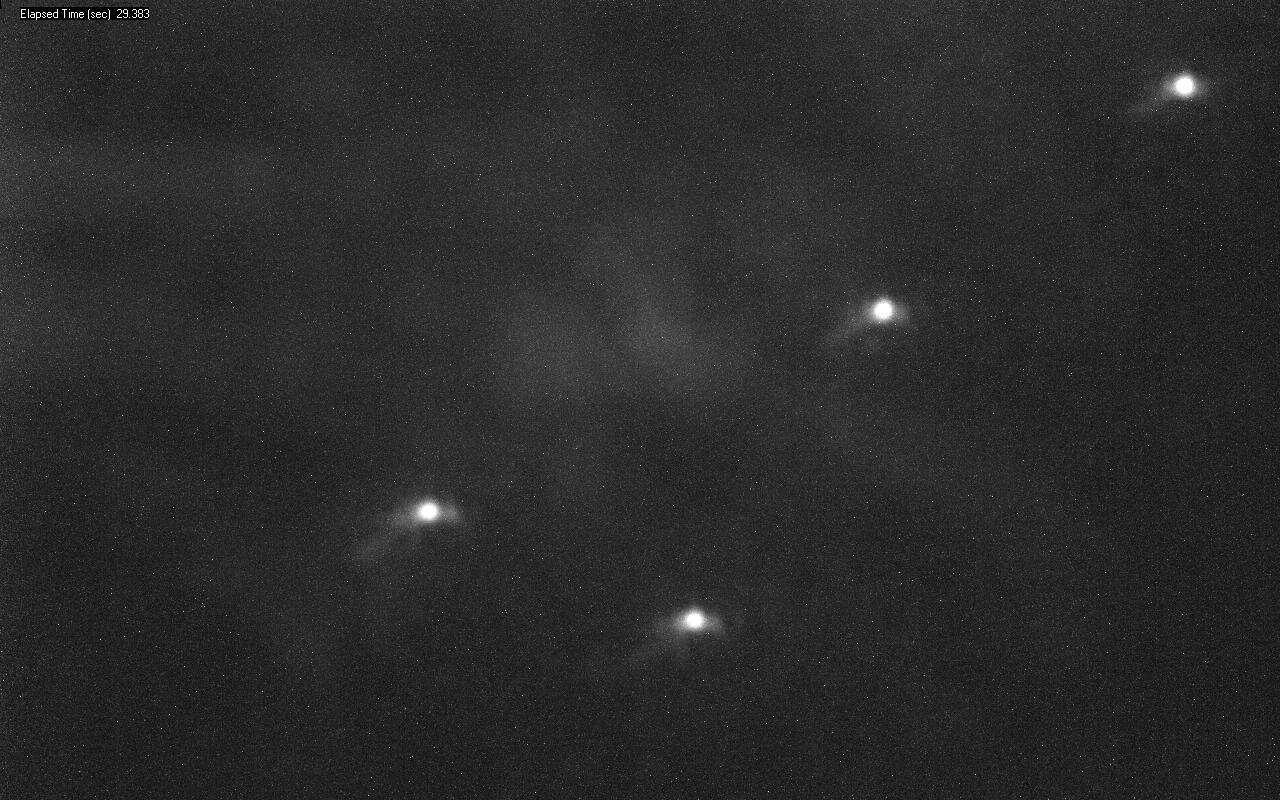Bead: (672, 605, 721, 635), (1161, 72, 1204, 100), (413, 499, 457, 525), (865, 296, 902, 325)
